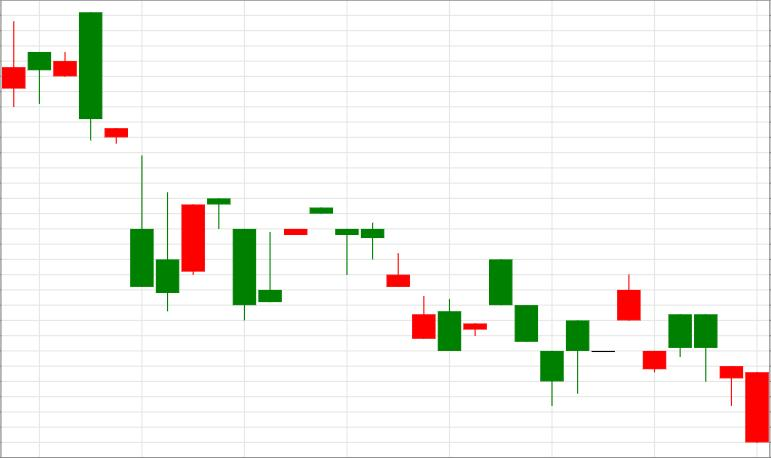inverse_hammer_rise: (54, 12, 179, 311)
